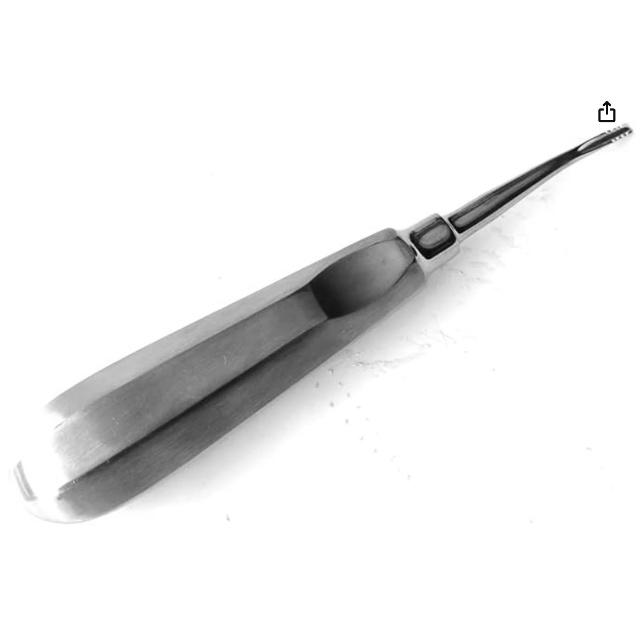botador: (12, 126, 632, 529)
